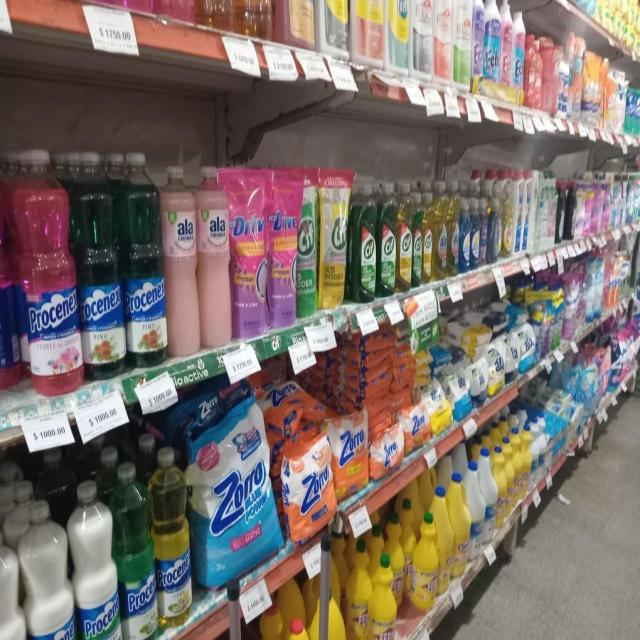ala_conc_amarillo: (433, 180, 448, 282), (448, 181, 459, 277)
ala_crem_rosado: (164, 164, 197, 359), (198, 165, 230, 351)
cif_conc_bot_amarilla: (397, 181, 412, 293), (422, 184, 432, 284)
cif_conc_botella_verde: (352, 181, 376, 303), (378, 182, 396, 297), (412, 186, 422, 288)
cif_conc_sachet_amarillo: (319, 168, 348, 310)
cif_conc_sachet_verde: (298, 169, 318, 319)
magistral_con_azul: (460, 196, 470, 274), (470, 198, 479, 270), (480, 197, 488, 267)
